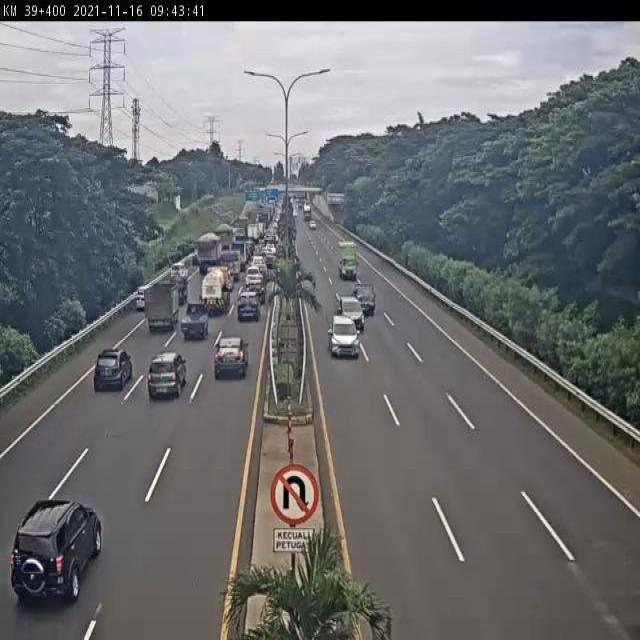car: (8, 491, 105, 615), (146, 347, 189, 404), (91, 346, 136, 398), (213, 335, 252, 384), (178, 300, 212, 345), (327, 316, 359, 357), (235, 292, 263, 327), (335, 295, 363, 328), (351, 281, 375, 315), (167, 275, 189, 307), (244, 275, 267, 304), (132, 281, 147, 315), (167, 262, 188, 286), (244, 265, 264, 288), (251, 253, 266, 272), (187, 248, 200, 269), (264, 251, 278, 268)
truck: (143, 279, 182, 335), (200, 265, 231, 316), (195, 234, 223, 278), (334, 243, 358, 280), (218, 250, 242, 282), (212, 223, 232, 252)
